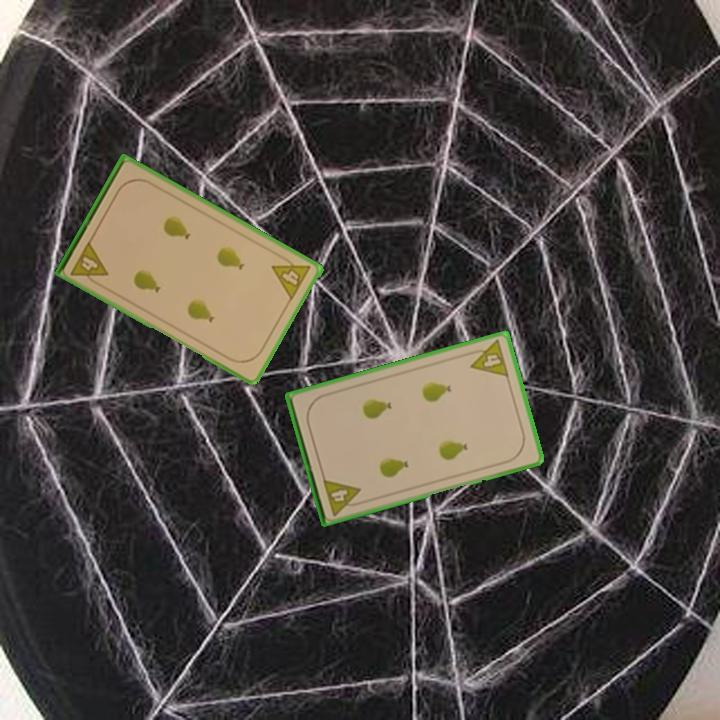4p: (269, 251, 314, 303), (67, 237, 111, 289), (464, 336, 512, 380), (319, 475, 366, 519)
